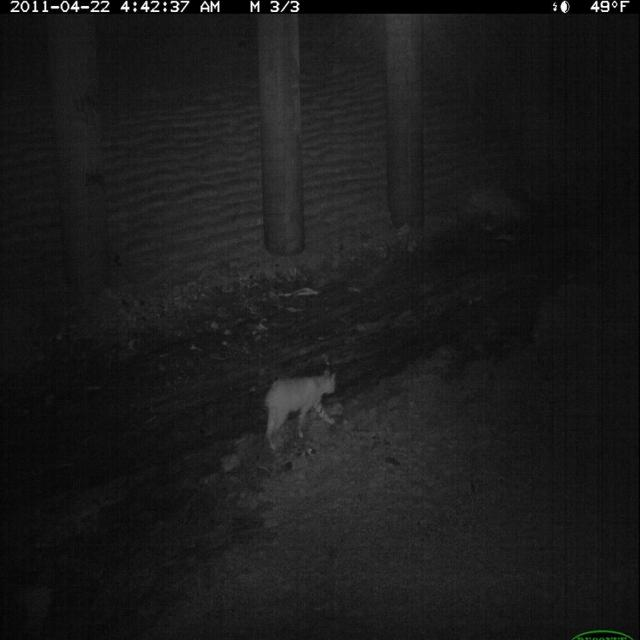bobcat: (261, 366, 342, 454)
